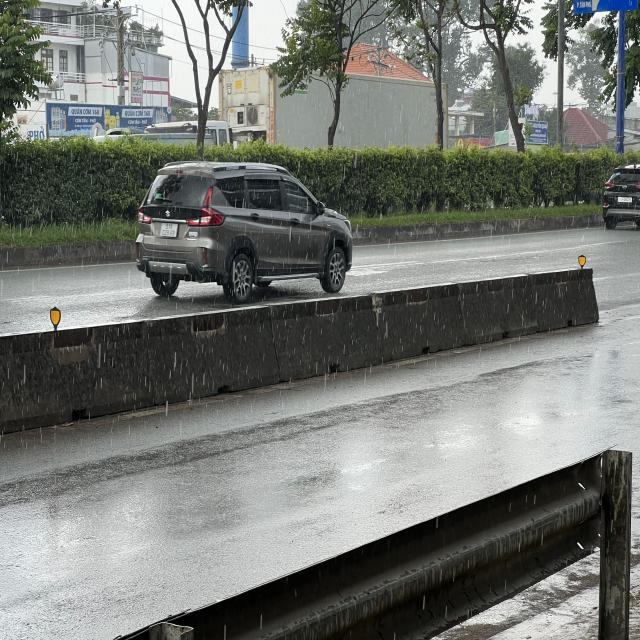car: (132, 161, 356, 291), (602, 166, 639, 231)
